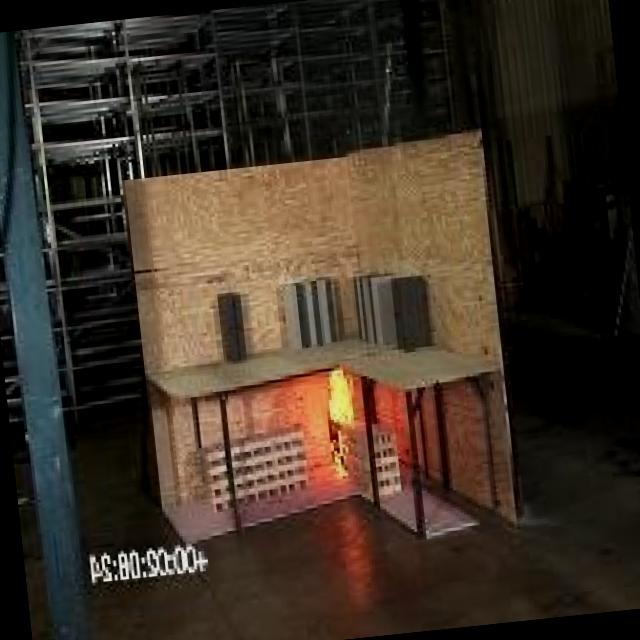fire: (304, 354, 370, 443)
